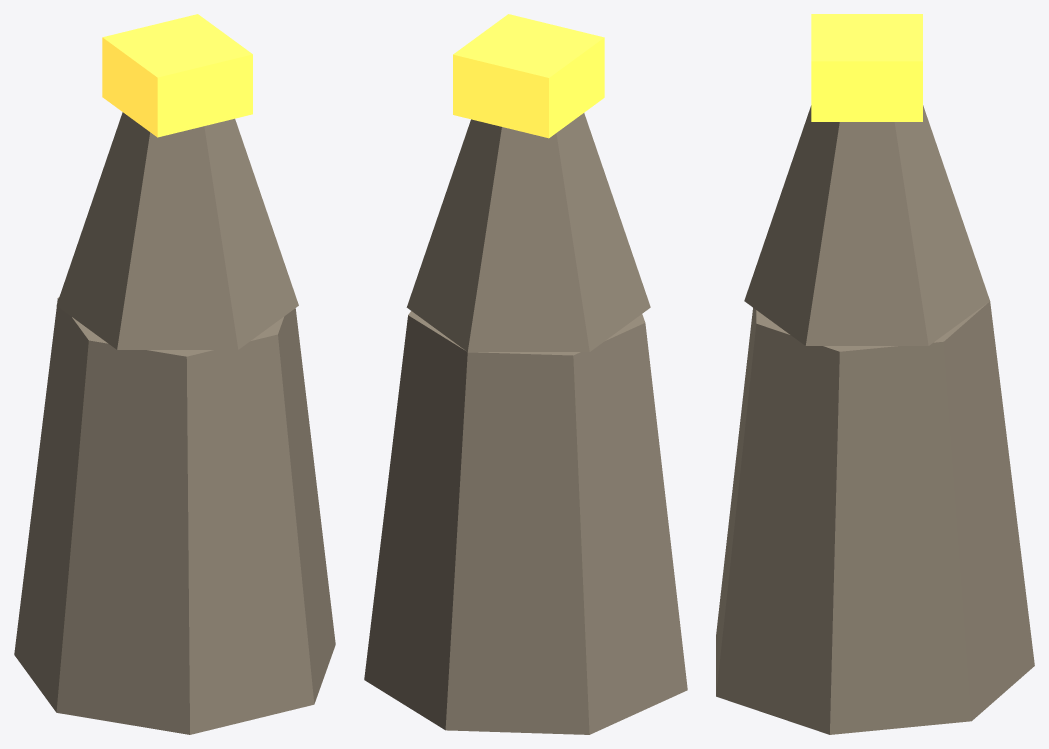
Rendered from prop_molotov_01.glb.
3 views of the same model, side by side, from view 1: azimuth 30°, elevation 25°; view 2: azimuth 150°, elevation 25°; view 3: azimuth 270°, elevation 25° (orthographic).
Parts seen in each view (by area): view 1: prop_molotov_01; view 2: prop_molotov_01; view 3: prop_molotov_01.
Boxes of the visible parts, left/top/right/bottom form: prop_molotov_01: left=14, top=14, right=335, bottom=734; prop_molotov_01: left=364, top=14, right=687, bottom=734; prop_molotov_01: left=716, top=14, right=1034, bottom=734.
Bounding box in the file's own units: 0.1462 × 0.31 × 0.1426.
